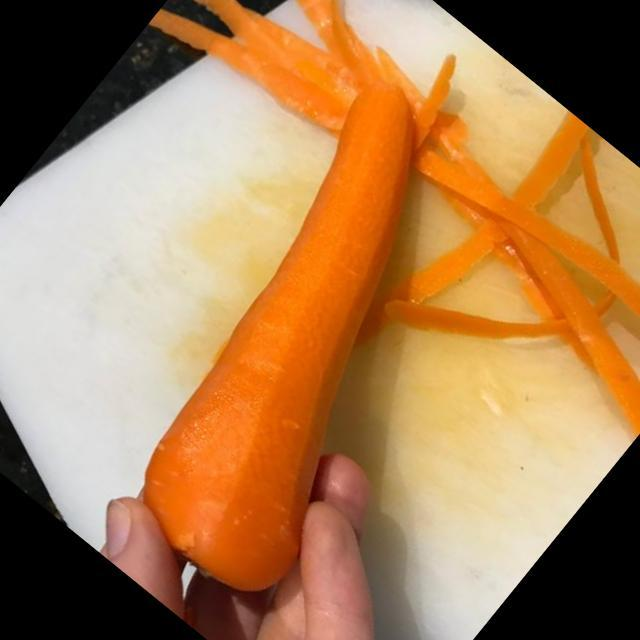carrot: (61, 66, 568, 611)
